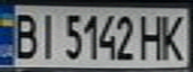1: (81, 11, 100, 61)
2: (115, 11, 139, 61)
4: (96, 10, 121, 61)
5: (60, 10, 84, 61)
B: (6, 9, 42, 61)
H: (136, 11, 169, 61)
I: (33, 9, 60, 61)
K: (157, 10, 190, 61)
